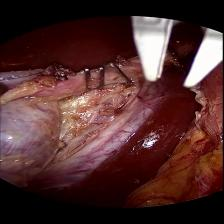Clipper: (133, 7, 224, 88)
